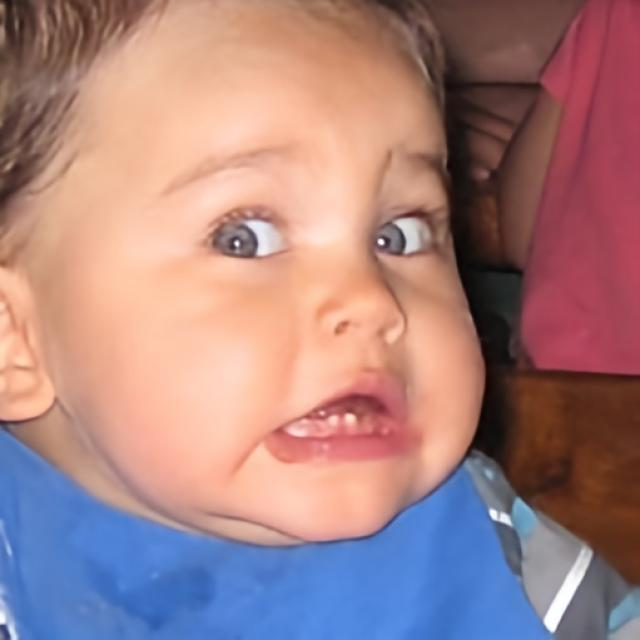fear: (58, 0, 484, 541)
